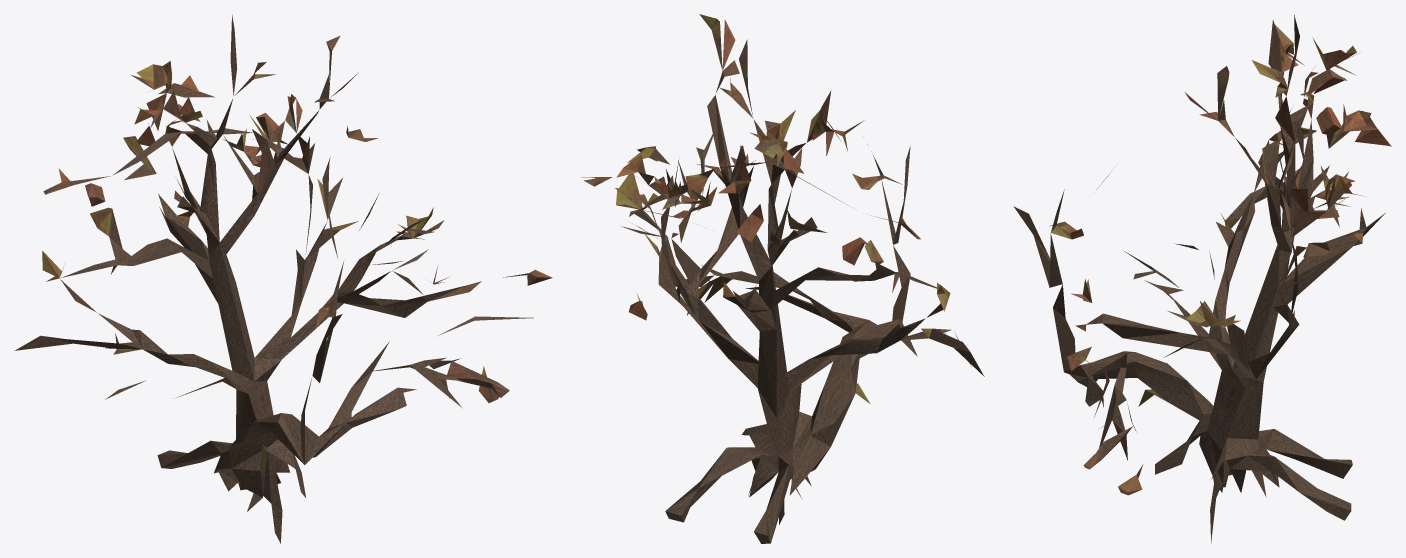
File: bush.glb
3 renders of one model, left to right at view 1: azimuth 30°, elevation 25°; view 2: azimuth 150°, elevation 25°; view 3: azimuth 270°, elevation 25°, orthographic. The views are drawn at different scales.
Bounding box in the file's own units: 1.59 × 1.74 × 1.14.
1 material, 1 textured.
